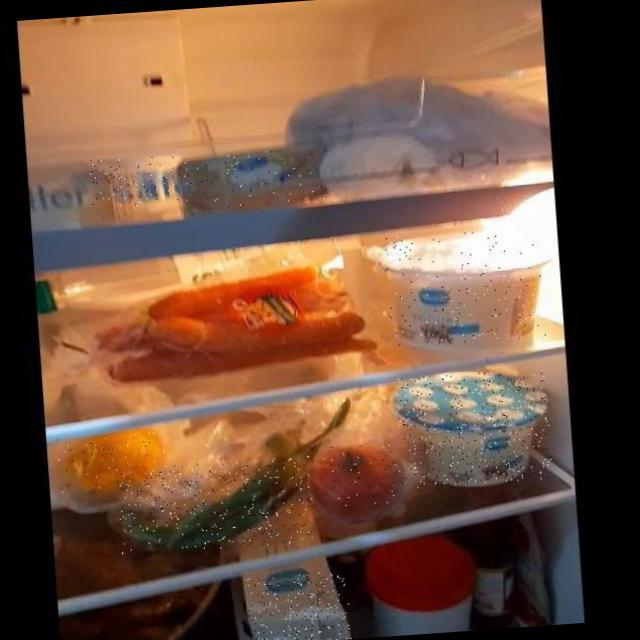Limón: (56, 431, 174, 501)
Mantequilla: (180, 147, 324, 211)
Yogur: (382, 225, 547, 348), (396, 368, 553, 488), (88, 154, 179, 210)
Zanahoria: (103, 272, 360, 369)
green chilies: (115, 456, 315, 557)
milk: (246, 569, 351, 640)
tomato paste: (314, 442, 404, 509)
